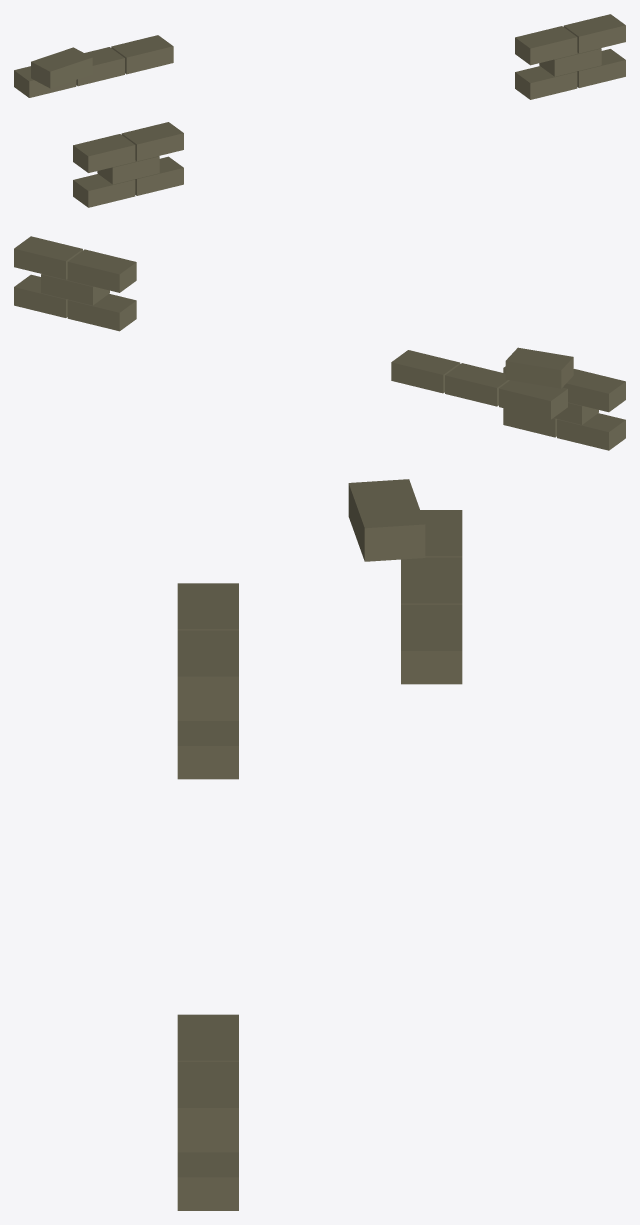
File: SM_ObraSacos_v4_10m_LOD1.fbx
3 renders of one model, top to bottom at view 1: azimuth 30°, elevation 25°; view 2: azimuth 150°, elevation 25°; view 3: azimuth 270°, elevation 25°, orthographic. The views are drawn at different scales.
Parts seen in each view (by area): view 1: SM_obra_curso_v9_LOD1; view 2: SM_obra_curso_v9_LOD1; view 3: SM_obra_curso_v9_LOD1.
Part boxes in pixels (x1,y1,x2,y2): SM_obra_curso_v9_LOD1: (14,14,625,207); SM_obra_curso_v9_LOD1: (14,236,625,450); SM_obra_curso_v9_LOD1: (177,479,462,1210).
Size of the model in its own units: 9.79 by 1.79 by 2.23.
